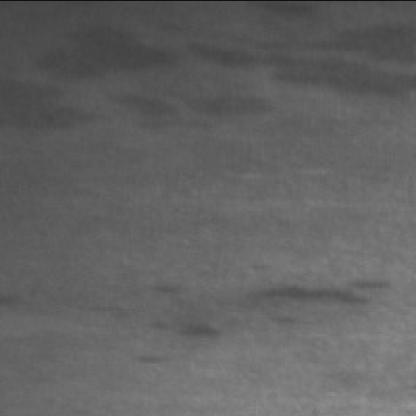inclusion: (140, 6, 408, 92), (134, 266, 408, 348), (21, 86, 272, 146)
